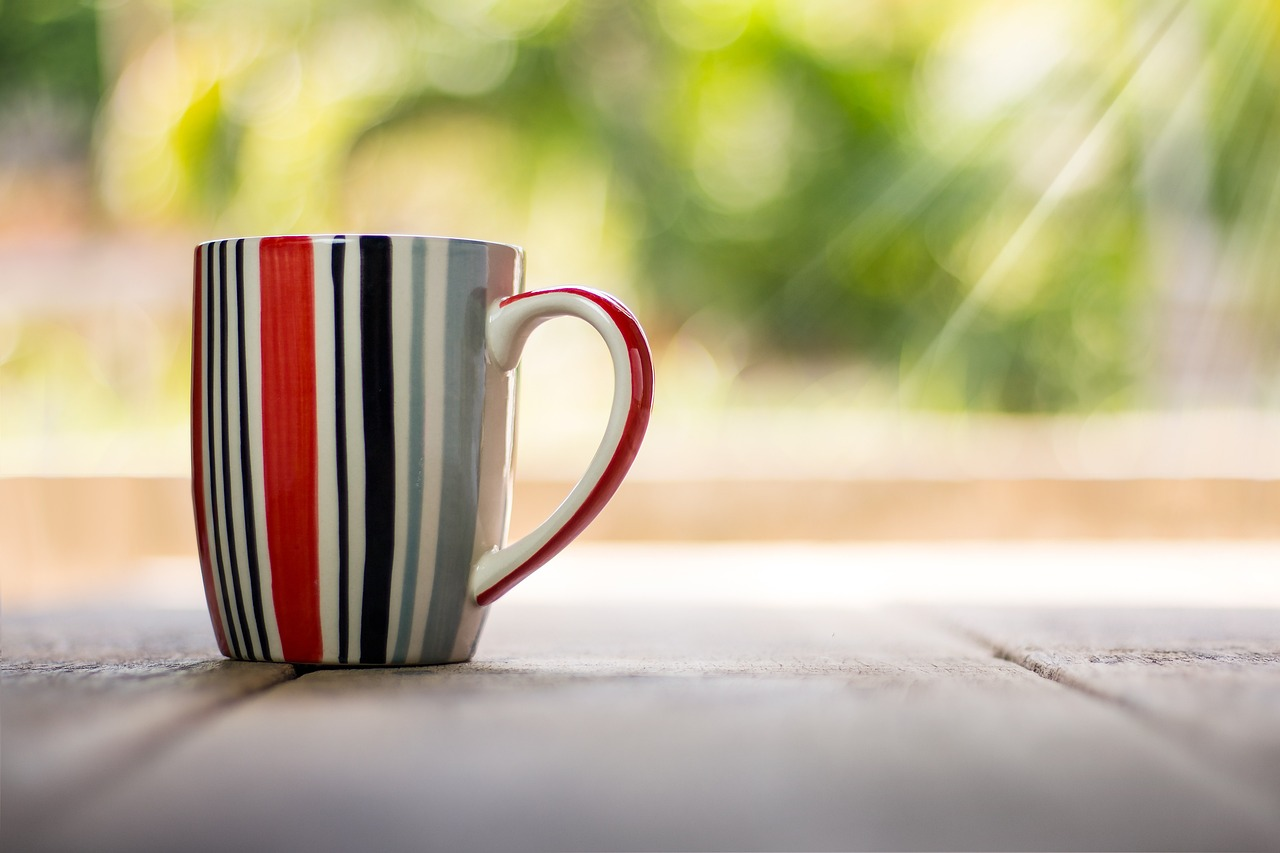mug: (172, 201, 652, 686)
